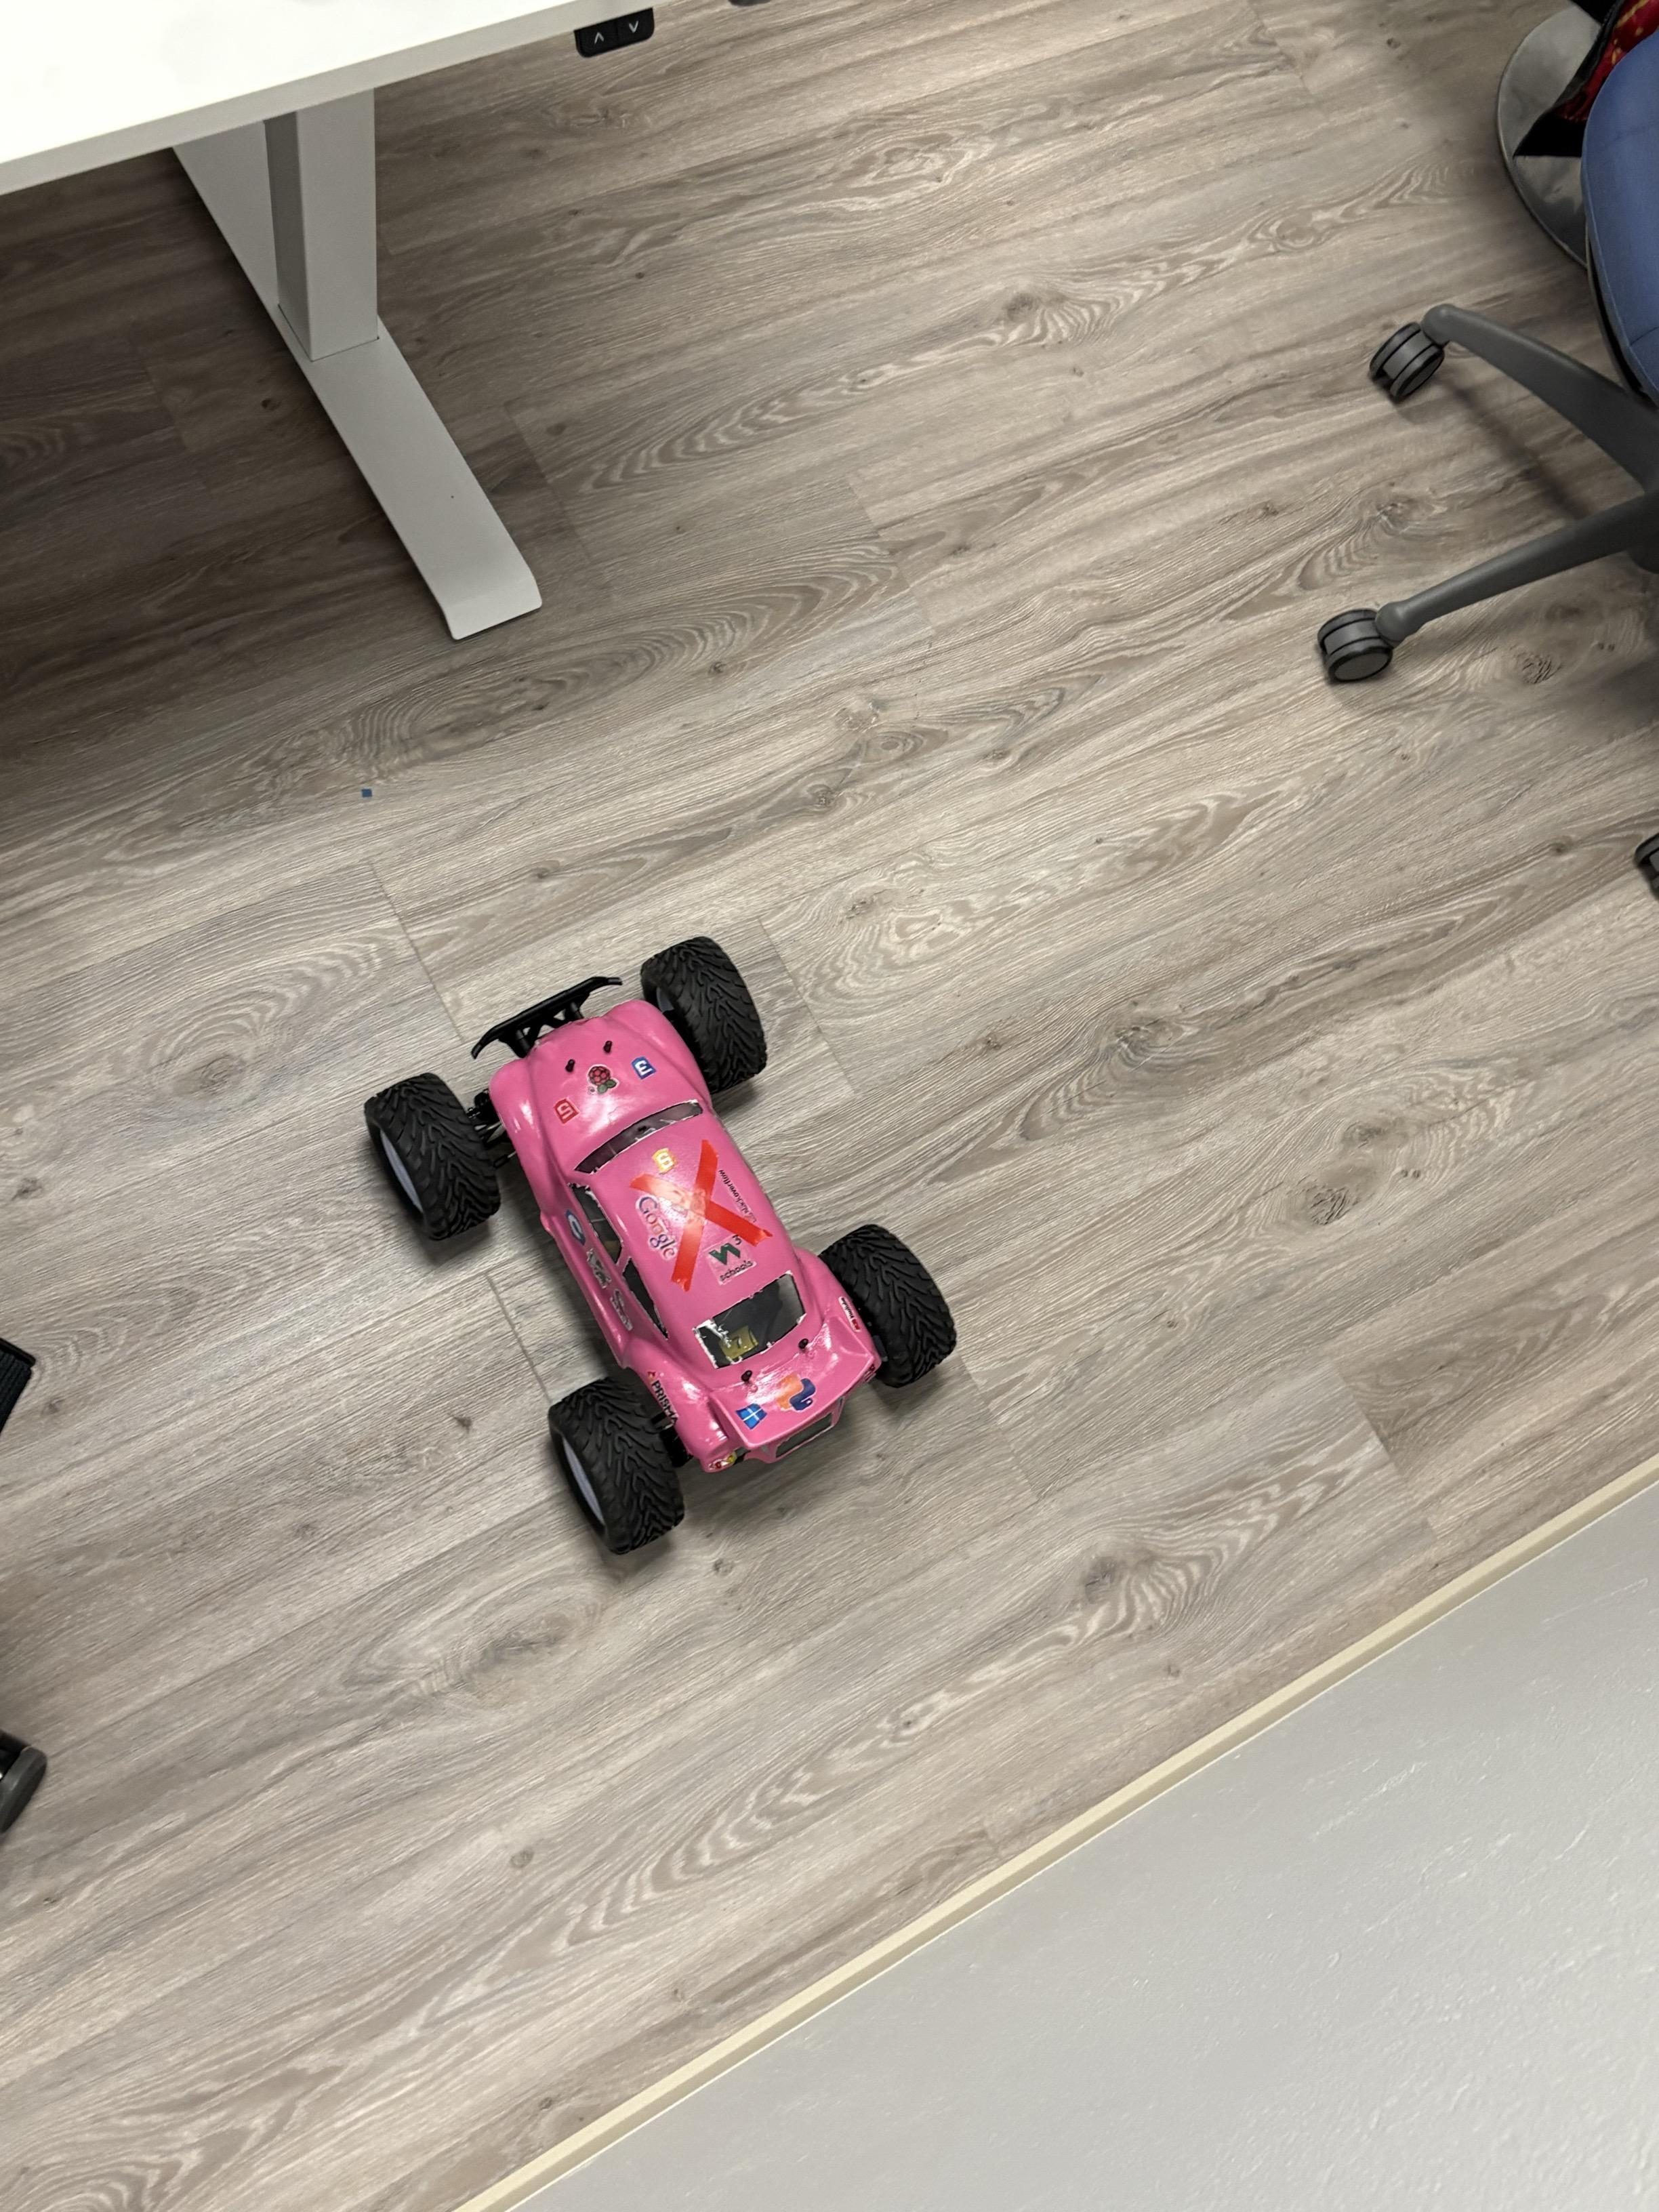Car: (265, 853, 1061, 1646)
